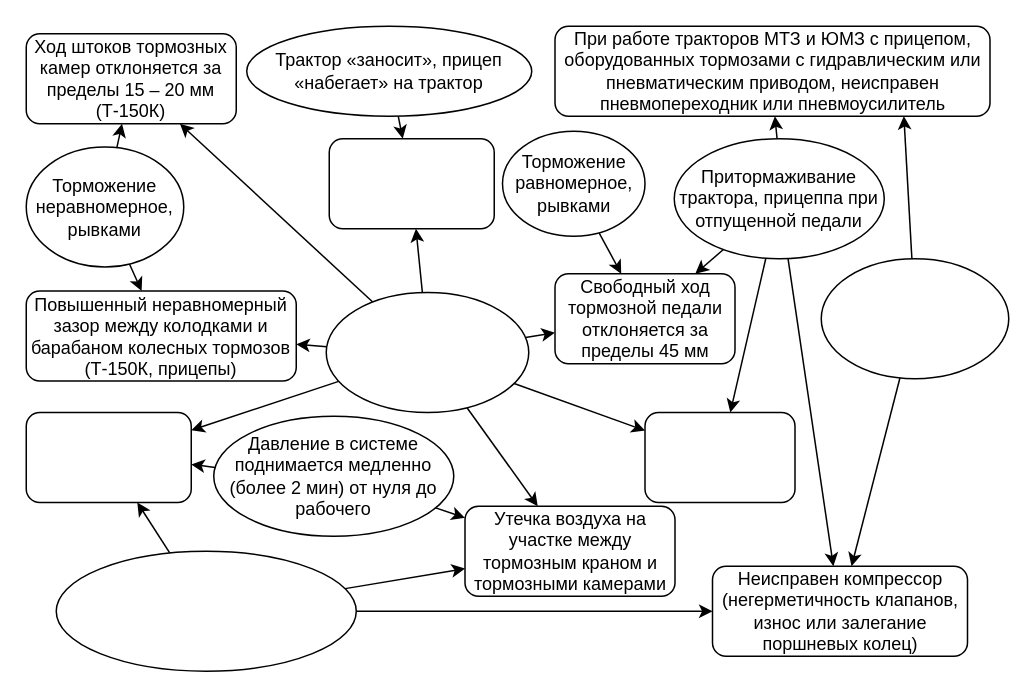
This 1035x698 diagram has some shape labels left out. Here are the shapes that lost their labels. From the top down, the box of each, then its label:
(328, 137, 494, 229): Не отрегулирован ход педалей тормозов (МТЗ, ЮМЗ)
(820, 257, 1009, 379): Растормаживание происходит медленно
(325, 291, 529, 412): Тормозной путь больше допускаемого (10 м при скорости 30 км/ч)
(25, 411, 191, 502): Слабое натяжение ремней привода компрессора (Т-150К)
(644, 411, 795, 502): Разрегулирован или неисправен тормозной кран
(55, 550, 356, 671): Давление ниже 0,60–0,65 МПа, при котором компрессор должен включаться
